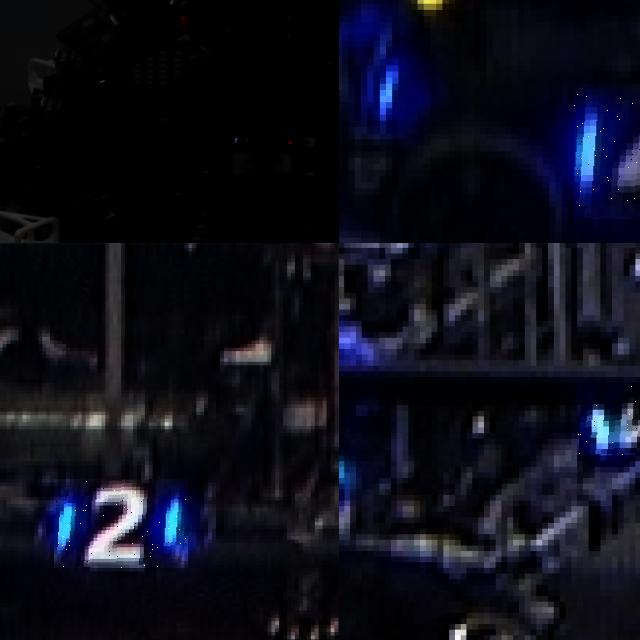B2: (54, 479, 188, 568), (577, 382, 640, 455)
B4: (574, 83, 640, 219)
